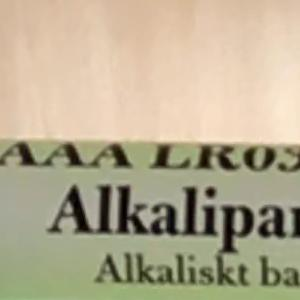ALK: (37, 174, 123, 244)
